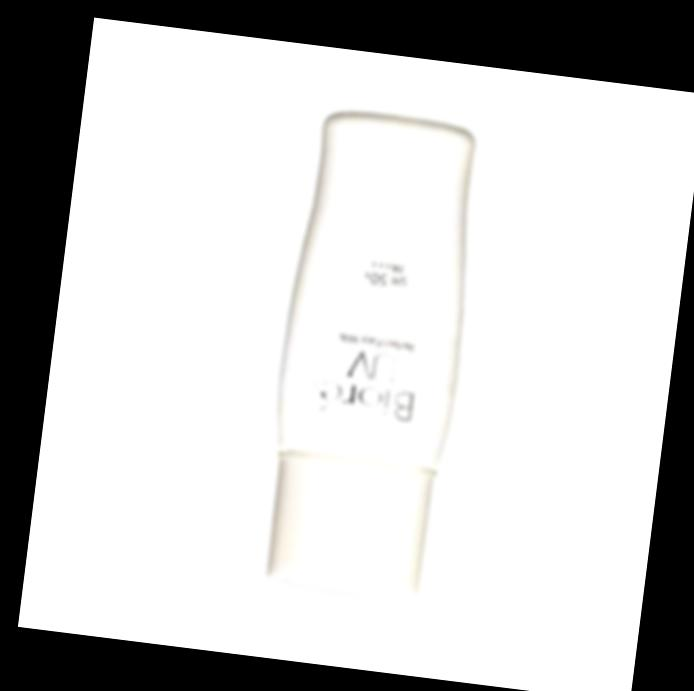cosmetic: (252, 104, 483, 601)
